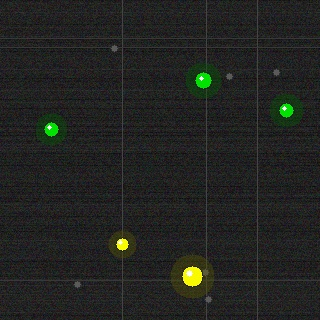green_normal: (193, 70, 213, 90), (42, 120, 60, 138), (277, 101, 295, 119)
yellow_warning: (180, 264, 204, 288), (114, 236, 130, 252)
